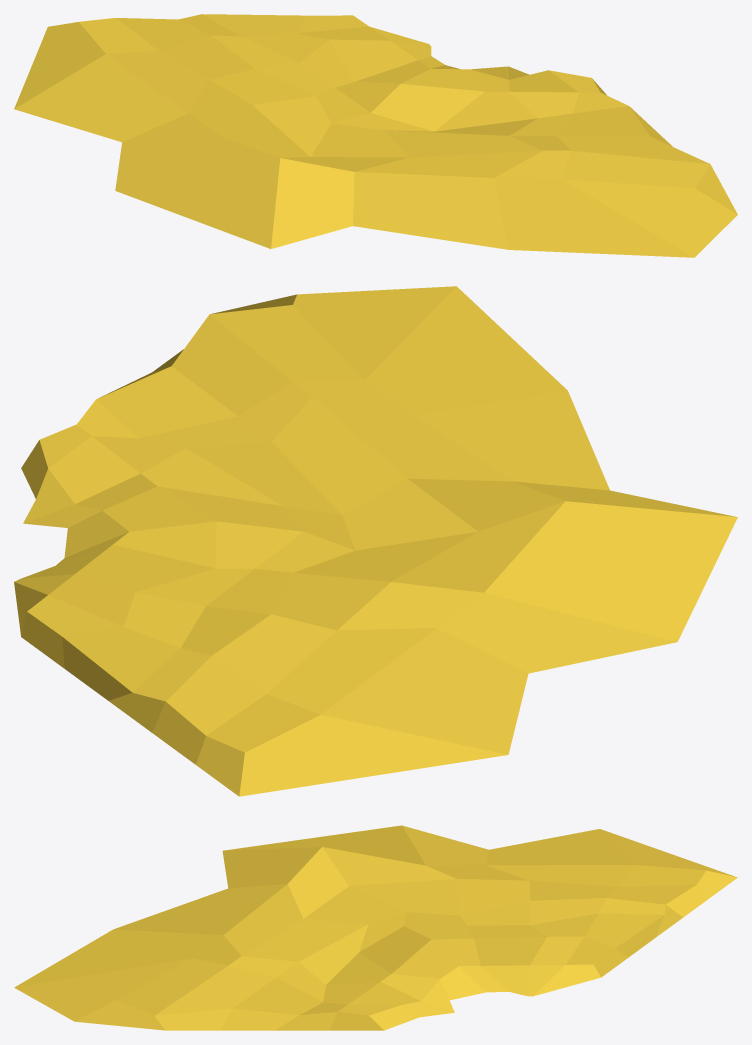
Rendered from street4_01_1.fbx.
3 views of the same model, one above another, from view 1: azimuth 30°, elevation 25°; view 2: azimuth 150°, elevation 25°; view 3: azimuth 270°, elevation 25° (orthographic). The views are drawn at different scales.
Visible parts, largest first — view 1: sandway01x01; view 2: sandway01x01; view 3: sandway01x01.
Boxes of the visible parts, left/top/right/bottom form: sandway01x01: left=14, top=14, right=737, bottom=257; sandway01x01: left=14, top=286, right=737, bottom=796; sandway01x01: left=14, top=825, right=737, bottom=1030.
Bounding box in the file's own units: 49.55 × 3.63 × 73.9.
